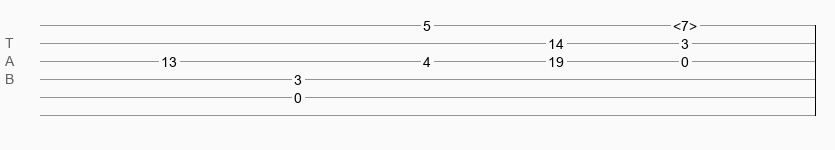0: (294, 90, 302, 100), (681, 54, 689, 64)
13: (161, 54, 177, 64)
14: (548, 36, 564, 46)
19: (548, 54, 564, 64)
3: (294, 72, 302, 82), (681, 36, 689, 46)
4: (423, 54, 431, 64)
5: (423, 18, 431, 28)
harmonic: (673, 18, 697, 28)
